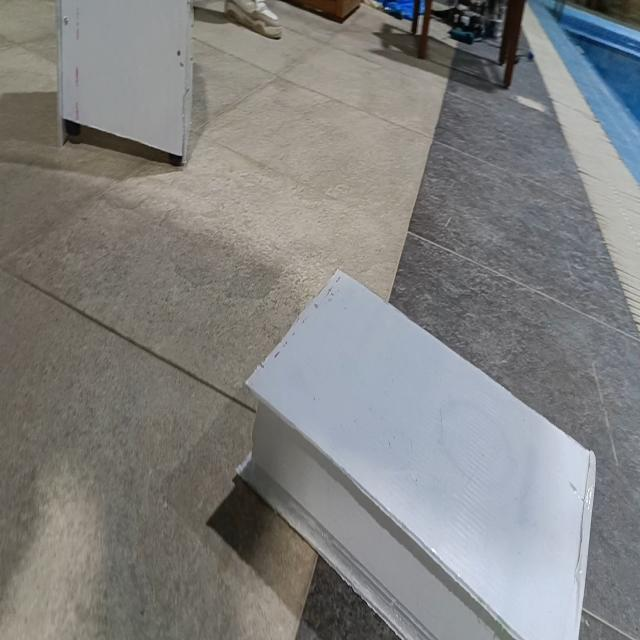Cube: (56, 0, 194, 165)
Cuboid: (240, 265, 596, 638)
